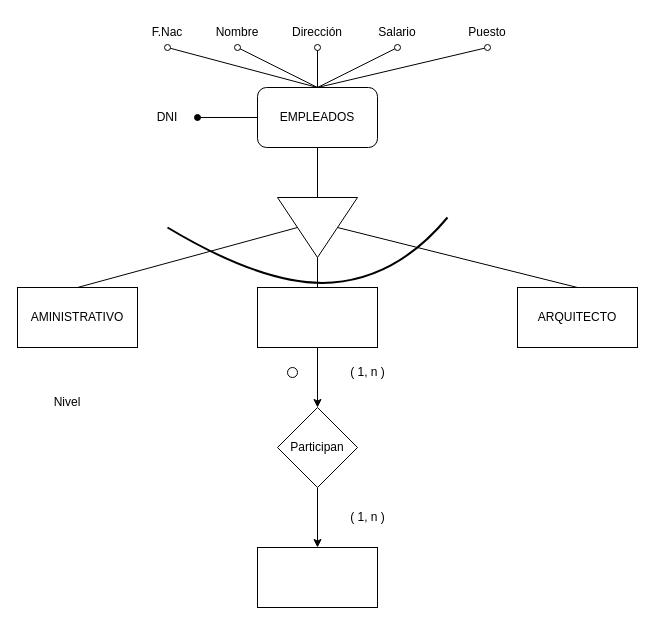
Image size: 655x625. Some labels were removed from this diagram. The centre of each missing label's shape, as x and y in pixels:
INGENIERO: the point at 317,317
PROYECTOS: the point at 317,577
